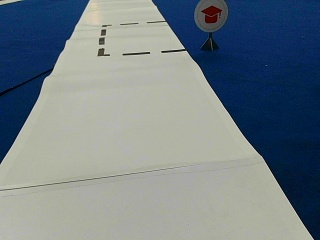school: (193, 1, 228, 31)
